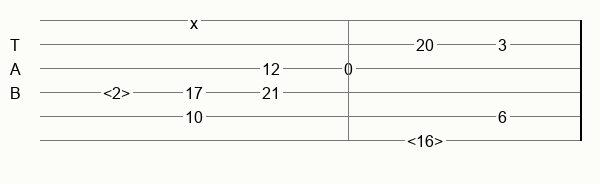0: (344, 60, 357, 76)
10: (185, 108, 207, 124)
12: (262, 60, 284, 76)
17: (185, 84, 207, 100)
20: (416, 36, 438, 52)
21: (262, 84, 284, 100)
3: (498, 36, 511, 52)
6: (498, 108, 511, 124)
harmonic: (407, 132, 447, 148), (103, 84, 134, 100)
x: (190, 14, 202, 27)
